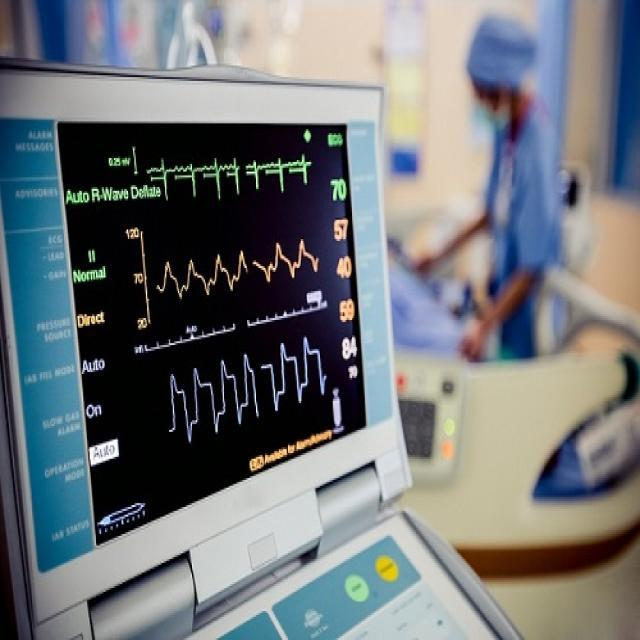Monitor: (0, 40, 520, 640)
